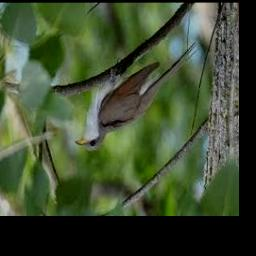Cuckoo: (75, 43, 198, 151)
